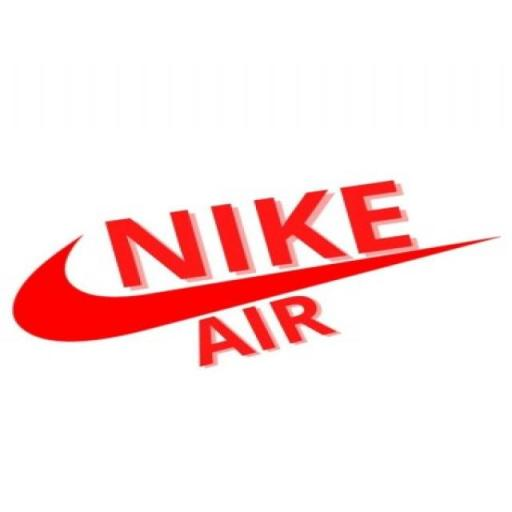Nike: (17, 253, 411, 342), (105, 179, 404, 291)
